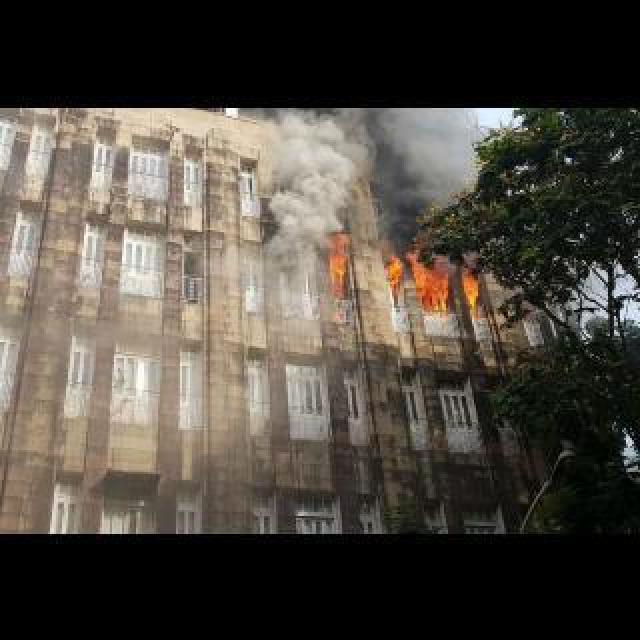Fire: (386, 230, 474, 324), (330, 232, 358, 296)
Smoke: (262, 108, 376, 248), (380, 106, 490, 206)
